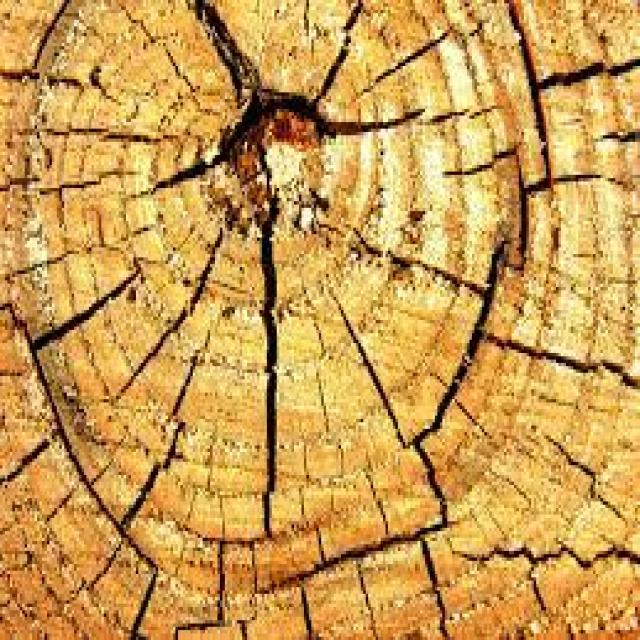have-wooden-eyes: (207, 93, 363, 241)
